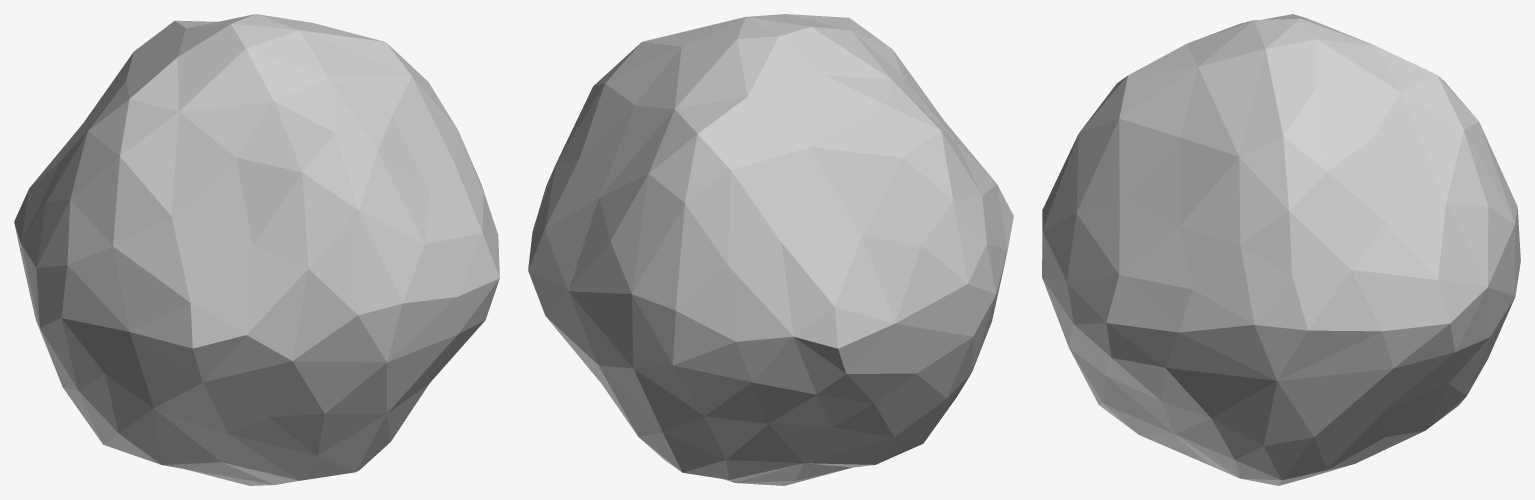
The model's file is Wool_AlpacaWhite.fbx.
3 renders of one model, left to right at view 1: azimuth 30°, elevation 25°; view 2: azimuth 150°, elevation 25°; view 3: azimuth 270°, elevation 25°, orthographic.
Parts seen in each view (by area): view 1: Wool_AlpacaWhite; view 2: Wool_AlpacaWhite; view 3: Wool_AlpacaWhite.
Boxes of the visible parts, box(x1,y1,x2,y2) form: Wool_AlpacaWhite: box(14, 14, 499, 485); Wool_AlpacaWhite: box(528, 14, 1013, 485); Wool_AlpacaWhite: box(1042, 14, 1520, 485).
Size of the model in its own units: 0.4988 by 0.5048 by 0.494.
